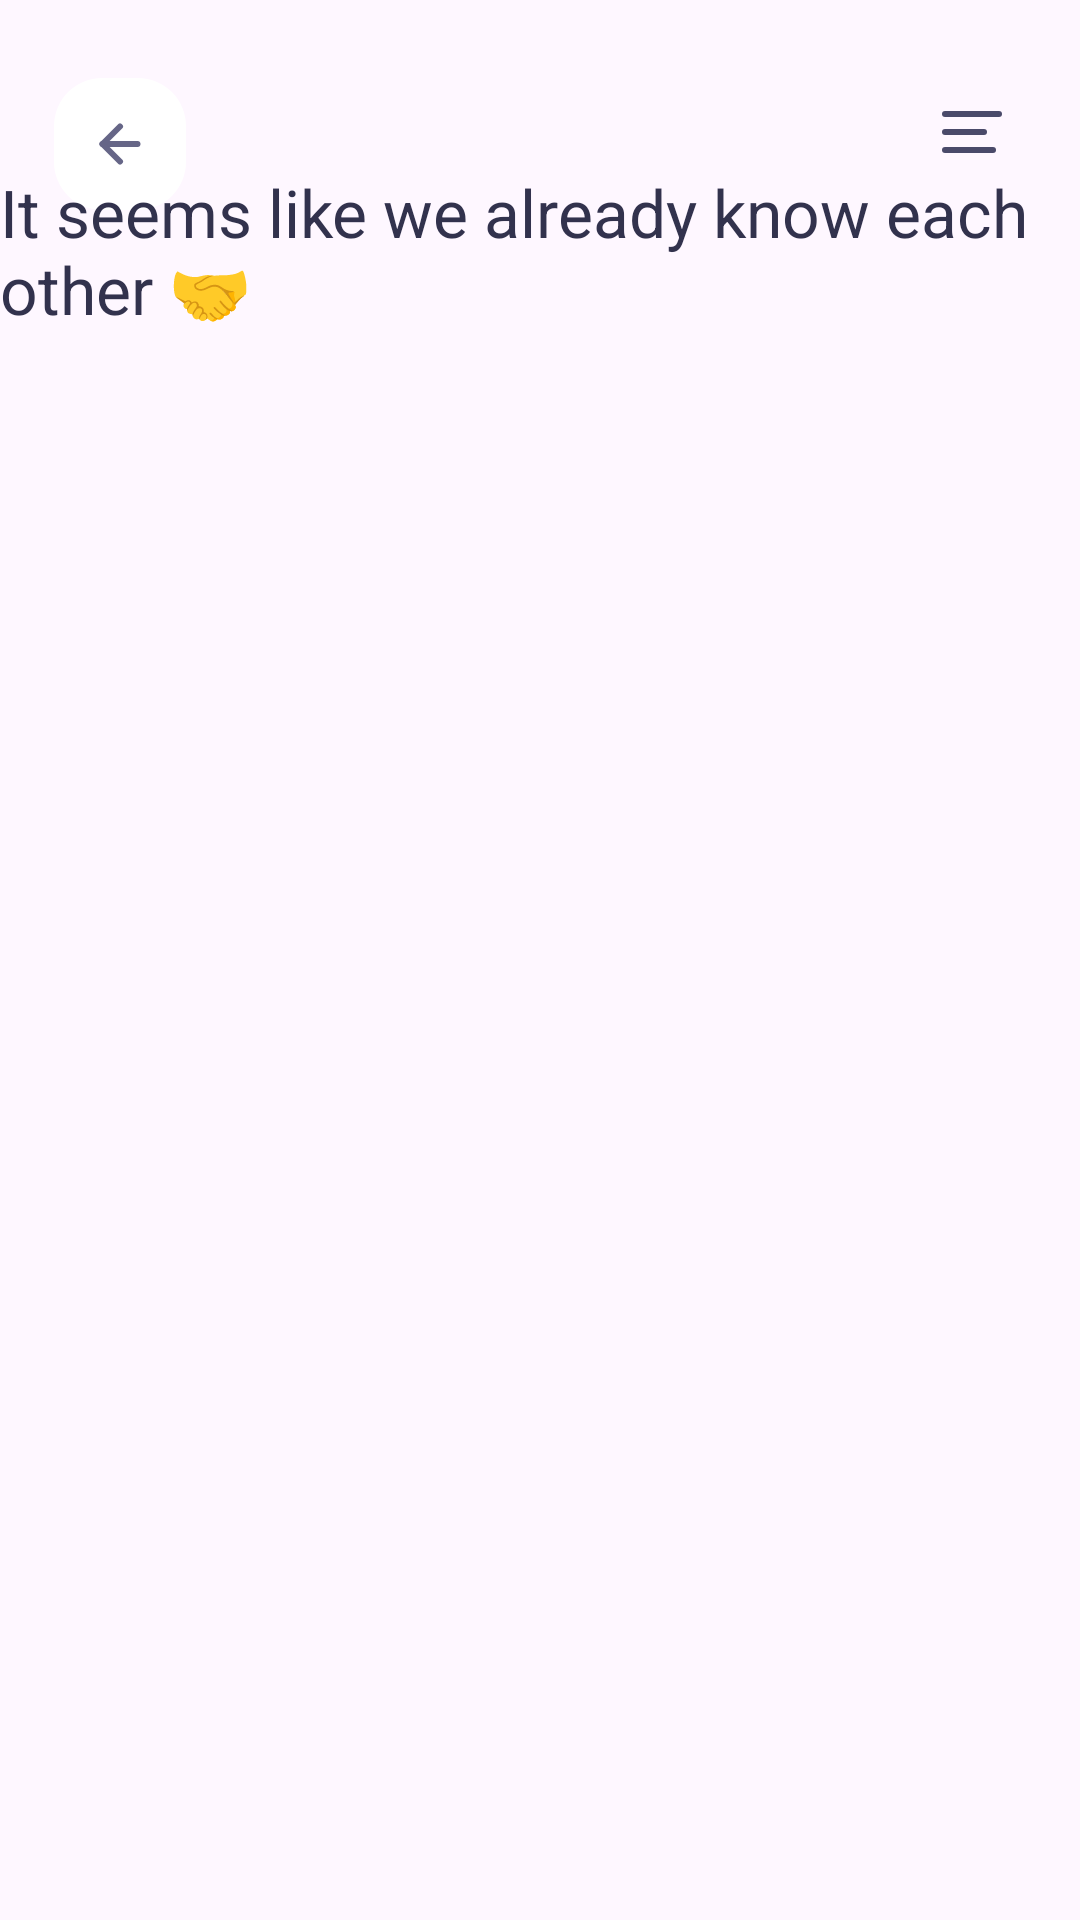

Icons on this 1080*1920 Android screen, each with the point to tap as (x,y):
toggle: (972,132)
